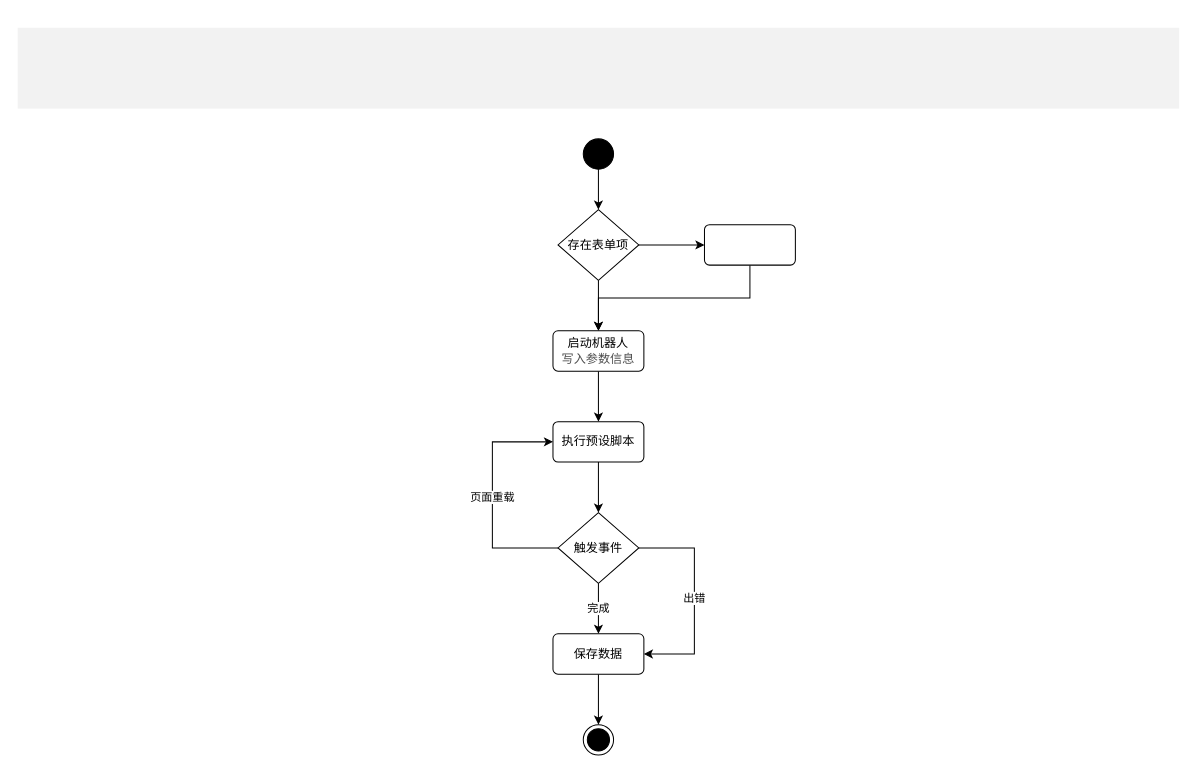
This 1196x773 diagram has some shape labels left out. Each missing label, with the box of its shape:
WEB RPA（网页机器人） Web RPA（基于现代网页的机器人程序），能够在指定网页下执行预设任务（或称脚本），帮助业务人员快速处理页面上的数据。: (17, 27, 1179, 108)
参数配置: (703, 224, 795, 265)
